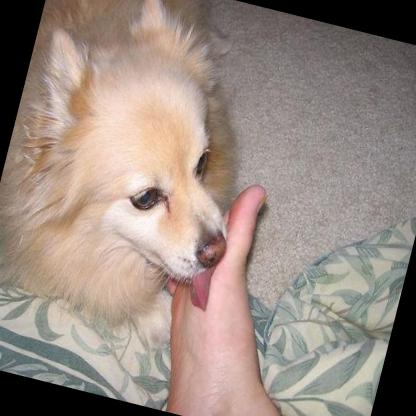Pomeranian: (0, 0, 284, 359)
